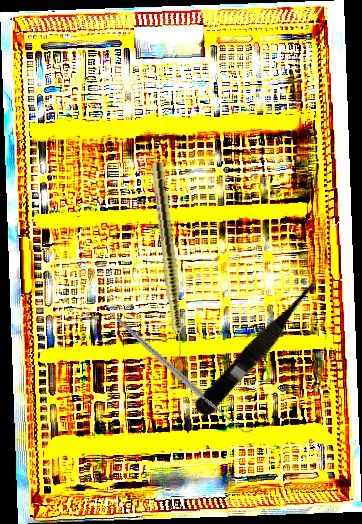Handpiece: (148, 161, 190, 369)
Hook Surgical: (115, 288, 254, 461)
Micro Scissor: (191, 272, 331, 422)
